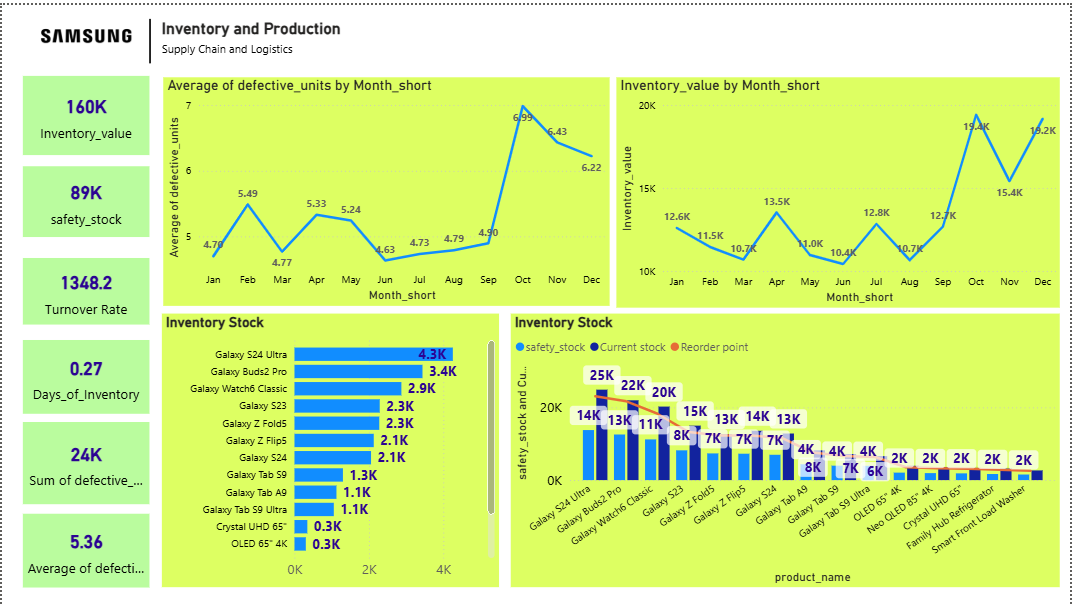

Layout of this report page (visuals, bound fields, positions):
{"tool":"powerbi","page":{"name":"inventory","canvas":[1280,720],"ordinal":3},"visuals":[{"type":"shape","title":"Inventory and Production","box":[191.7,16.7,228.3,46.7],"z":0},{"type":"shape","box":[162.8,17.2,28.3,53.3],"z":1000},{"type":"image","box":[34,16,130,40],"z":2000},{"type":"card","fields":{"Values":["measurestable.safety_stock"]},"box":[25,193.3,151.7,85],"z":3000},{"type":"card","fields":{"Values":["measurestable.Turnover Rate"]},"box":[25,303.3,151.7,80],"z":4000},{"type":"card","fields":{"Values":["measurestable.Days_of_Inventory"]},"box":[25,401.7,151.7,88.3],"z":5000},{"type":"card","fields":{"Values":["Sum(fact_production.defective_units)"]},"box":[25,500,151.7,98.3],"z":6000},{"type":"card","fields":{"Values":["Avg(fact_production.defective_units)"]},"box":[25,610,151.7,88.3],"z":7000},{"type":"card","fields":{"Values":["measurestable.Inventory_value"]},"box":[25,85,151.7,95],"z":8000},{"type":"barChart","title":"Inventory Stock","fields":{"Y":["measurestable.Defect_rate"],"Category":["dim_product.product_name"]},"box":[192,370,404,328],"z":9000},{"type":"lineClusteredColumnComboChart","title":"Inventory Stock","fields":{"Category":["dim_product.product_name"],"Y":["measurestable.safety_stock","measurestable.Inventory_value"],"Y2":["measurestable.Reorder point"]},"box":[610,370,658,328],"z":10000},{"type":"lineChart","fields":{"Y":["Avg(fact_production.defective_units)"],"Category":["dim_date.Month_short"]},"box":[192.5,86.2,535,273.8],"z":11000},{"type":"lineChart","fields":{"Category":["dim_date.Month_short"],"Y":["measurestable.Inventory_value"]},"box":[736,86,532,276],"z":12000}]}

Visuals, with their boxes in screenshot pixels (x1, y1, x2, y2), scaled from the page's 1280x720 canvas onto the 1072x606 screenshot:
"Inventory and Production" shape: (161,14,352,53)
shape: (136,14,160,59)
image: (28,13,137,47)
card - measurestable.safety_stock: (21,163,148,234)
card - measurestable.Turnover Rate: (21,255,148,323)
card - measurestable.Days_of_Inventory: (21,338,148,412)
card - Sum(fact_production.defective_units): (21,421,148,504)
card - Avg(fact_production.defective_units): (21,513,148,588)
card - measurestable.Inventory_value: (21,72,148,152)
"Inventory Stock" barChart: (161,311,499,587)
"Inventory Stock" lineClusteredColumnComboChart: (511,311,1062,587)
lineChart - Avg(fact_production.defective_units) x dim_date.Month_short: (161,73,609,303)
lineChart - dim_date.Month_short x measurestable.Inventory_value: (616,72,1062,305)
